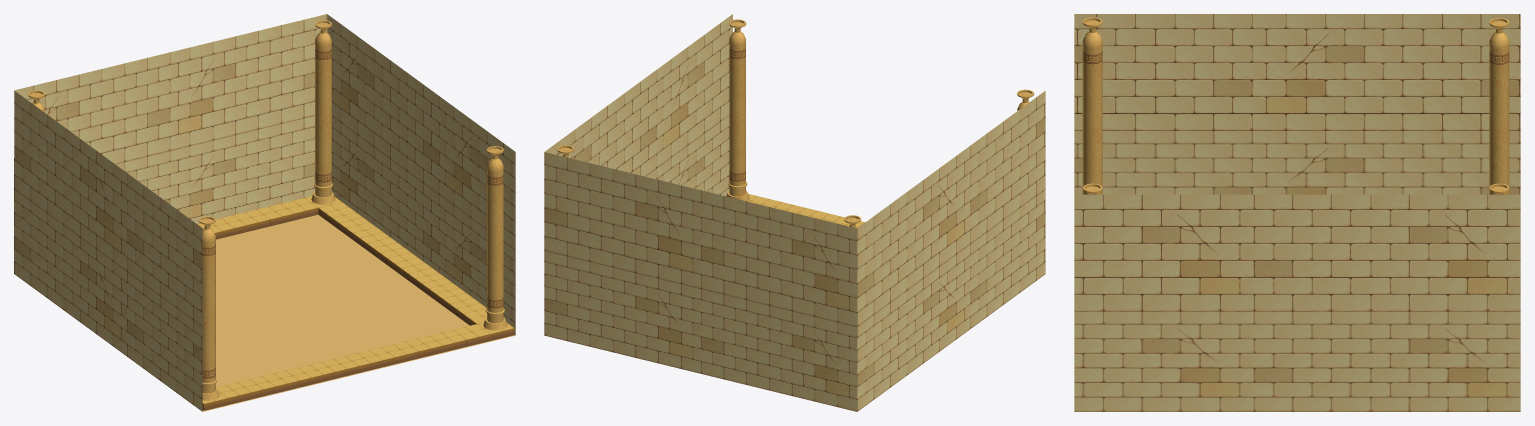
The model's file is 1_battle.fbx.
The picture shows the model from 3 angles, left to right: view 1: azimuth 30°, elevation 25°; view 2: azimuth 150°, elevation 25°; view 3: azimuth 270°, elevation 25°; orthographic projection. The views are drawn at different scales.
Visible parts, largest first — view 1: Box1899; view 2: Box1899; view 3: Box1899.
Boxes of the visible parts, bbox=[...] form: Box1899: bbox=[14, 14, 515, 411]; Box1899: bbox=[544, 14, 1045, 411]; Box1899: bbox=[1074, 14, 1520, 411].
Size of the model in its own units: 2888 by 3012 by 1618.
Materials: 3 (3 with a texture image).
